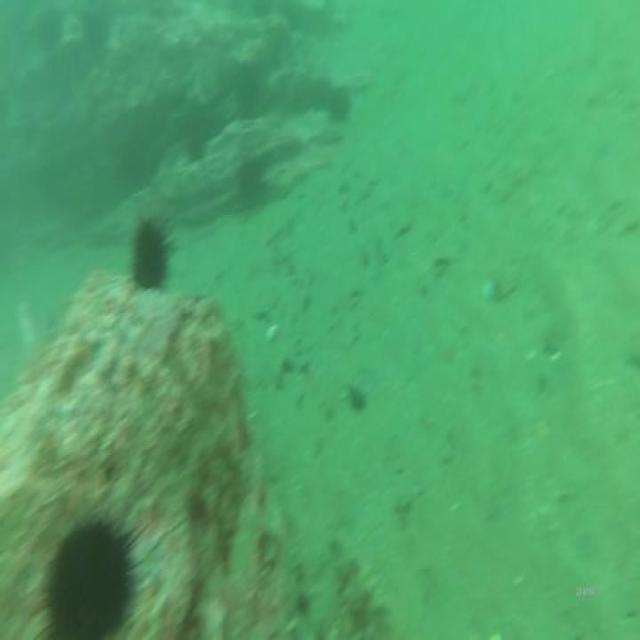echinus: (35, 502, 149, 640), (127, 212, 170, 300), (232, 150, 267, 212)
